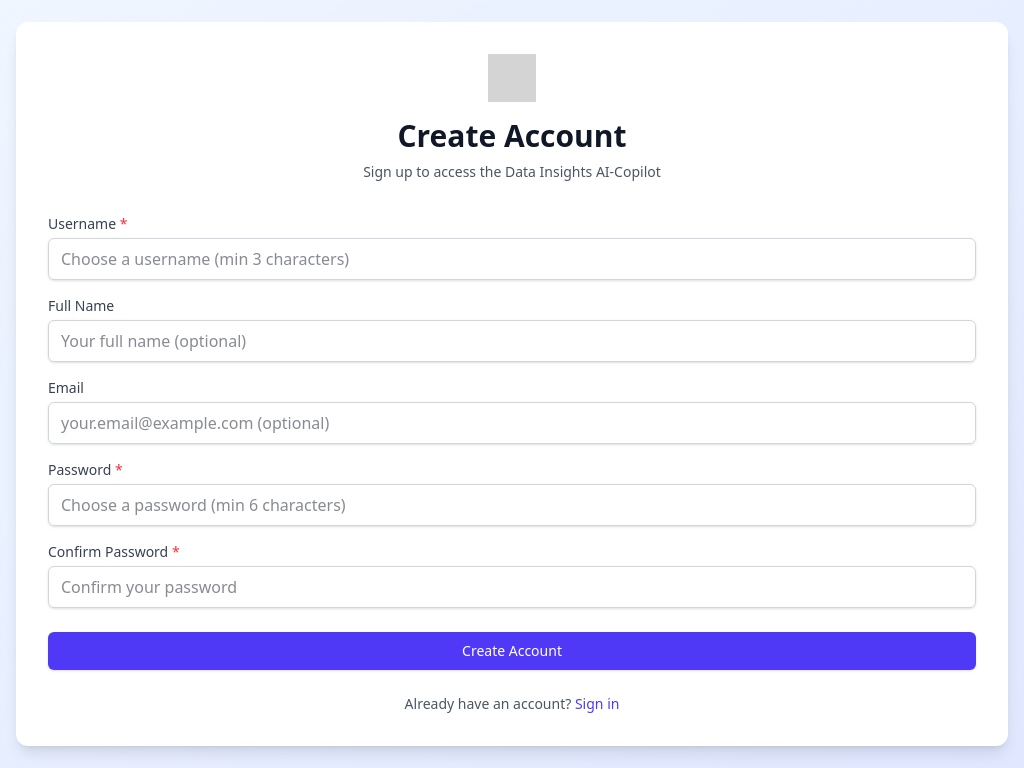
Test: RegisterPage › validates: passwords mismatch
Type "validuser" into the field labelled "Username *" at (512, 259), box [48,238,976,280]
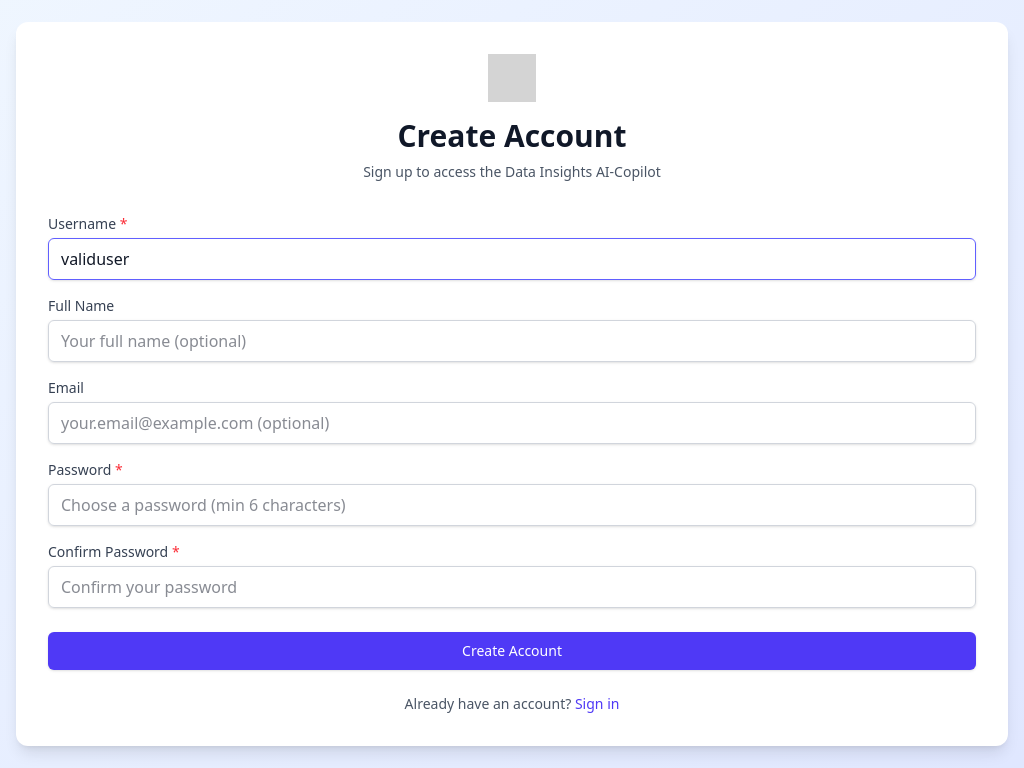
Type "password123" into the password field labelled "Password *" at (512, 505), box [48,484,976,526]
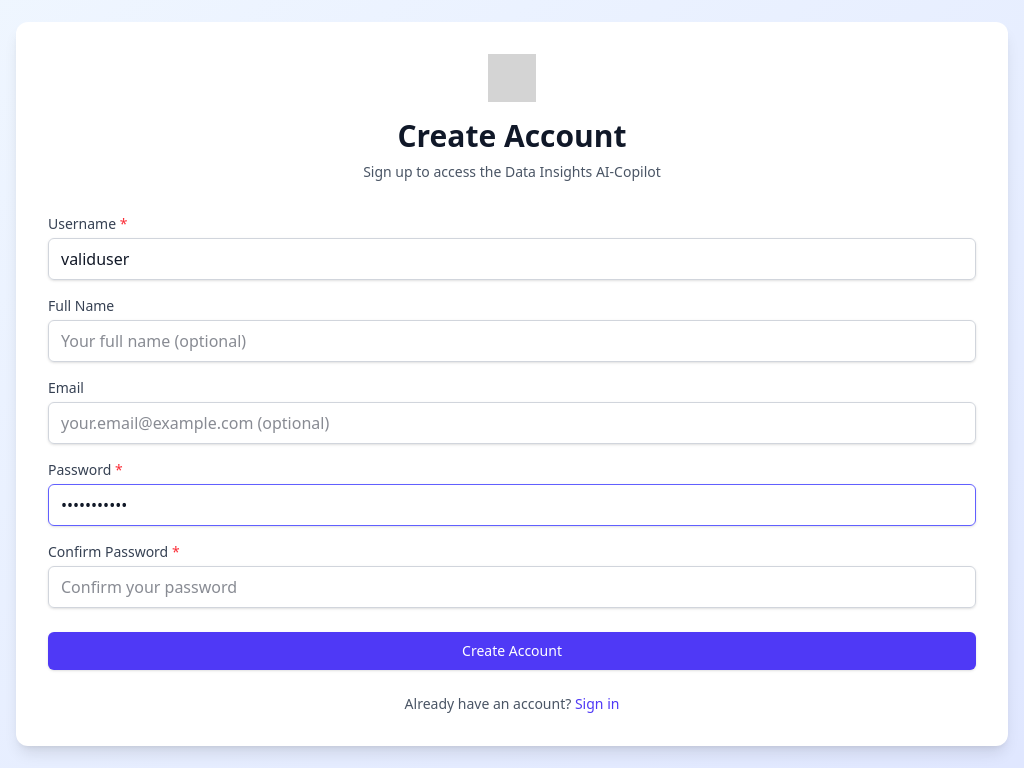
Type "password456" into the password field labelled "Confirm Password *" at (512, 587), box [48,566,976,608]
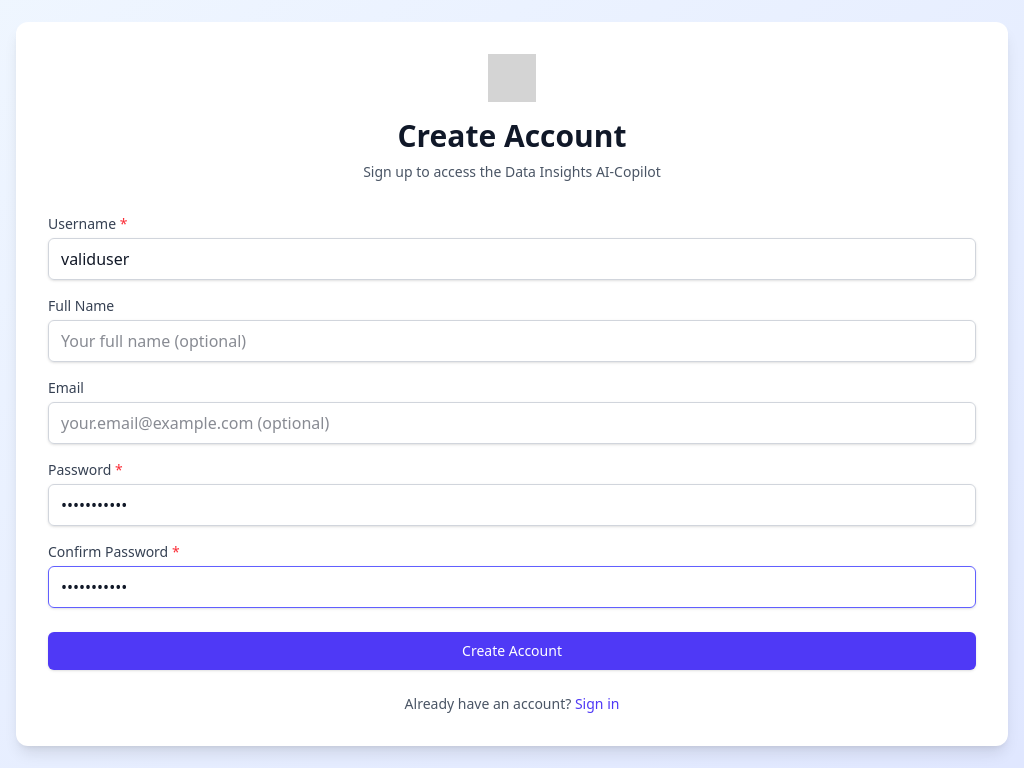
Click the button "Create Account" at (512, 651), box [48,632,976,670]
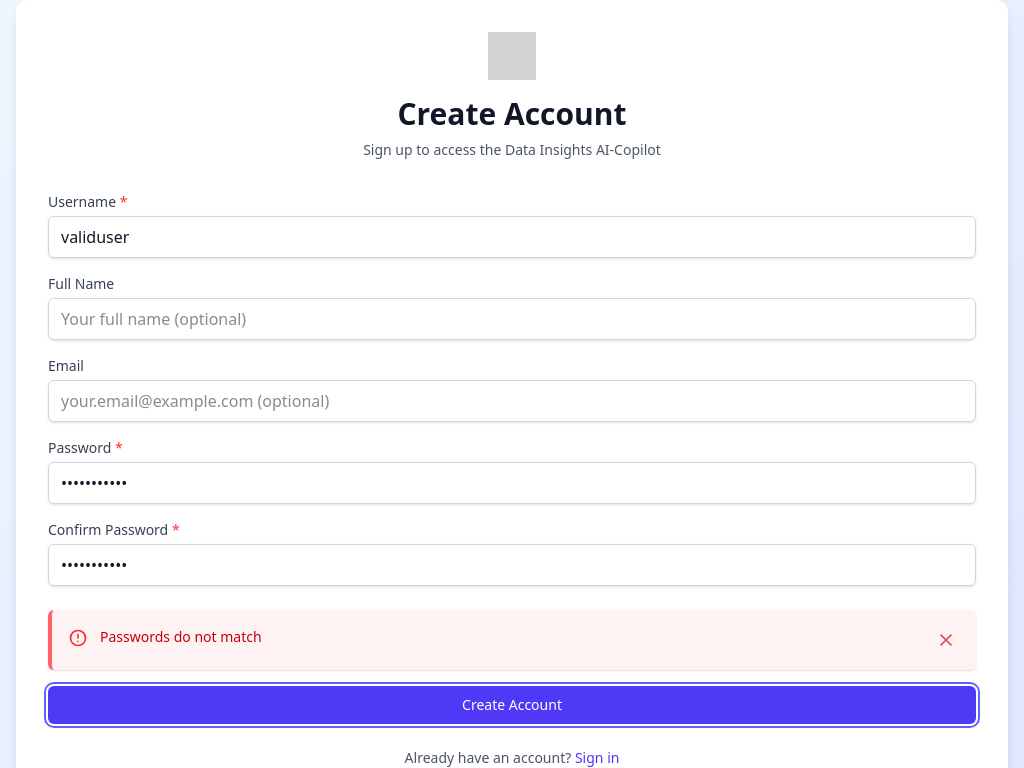
Result: the message reads "Passwords do not match" at [100,627,262,646]
